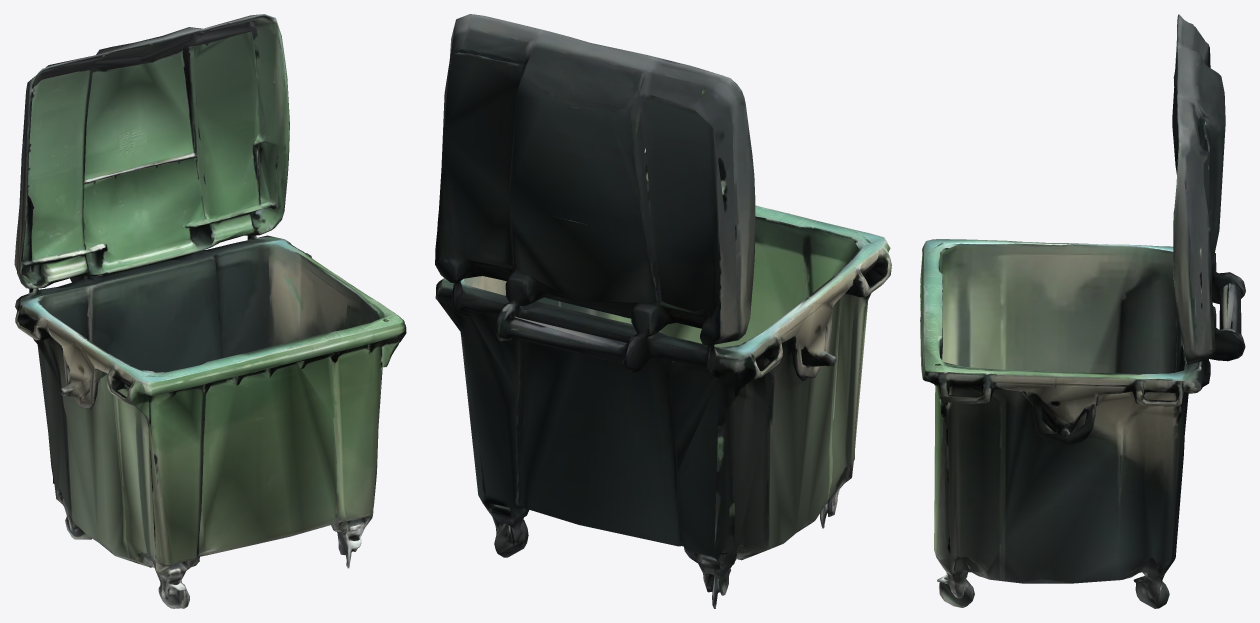
File: trash_bin.glb
3 renders of one model, left to right at view 1: azimuth 30°, elevation 25°; view 2: azimuth 150°, elevation 25°; view 3: azimuth 270°, elevation 25°, orthographic. The views are drawn at different scales.
Parts seen in each view (by area): view 1: tripo_node_a9e8fbd7; view 2: tripo_node_a9e8fbd7; view 3: tripo_node_a9e8fbd7.
Boxes of the visible parts, x1=… form: tripo_node_a9e8fbd7: x1=14, y1=14, x2=406, y2=608; tripo_node_a9e8fbd7: x1=435, y1=14, x2=891, y2=608; tripo_node_a9e8fbd7: x1=920, y1=14, x2=1245, y2=608.
Size of the model in its own units: 0.64 by 0.9778 by 0.5852.
1 material, 1 textured.
